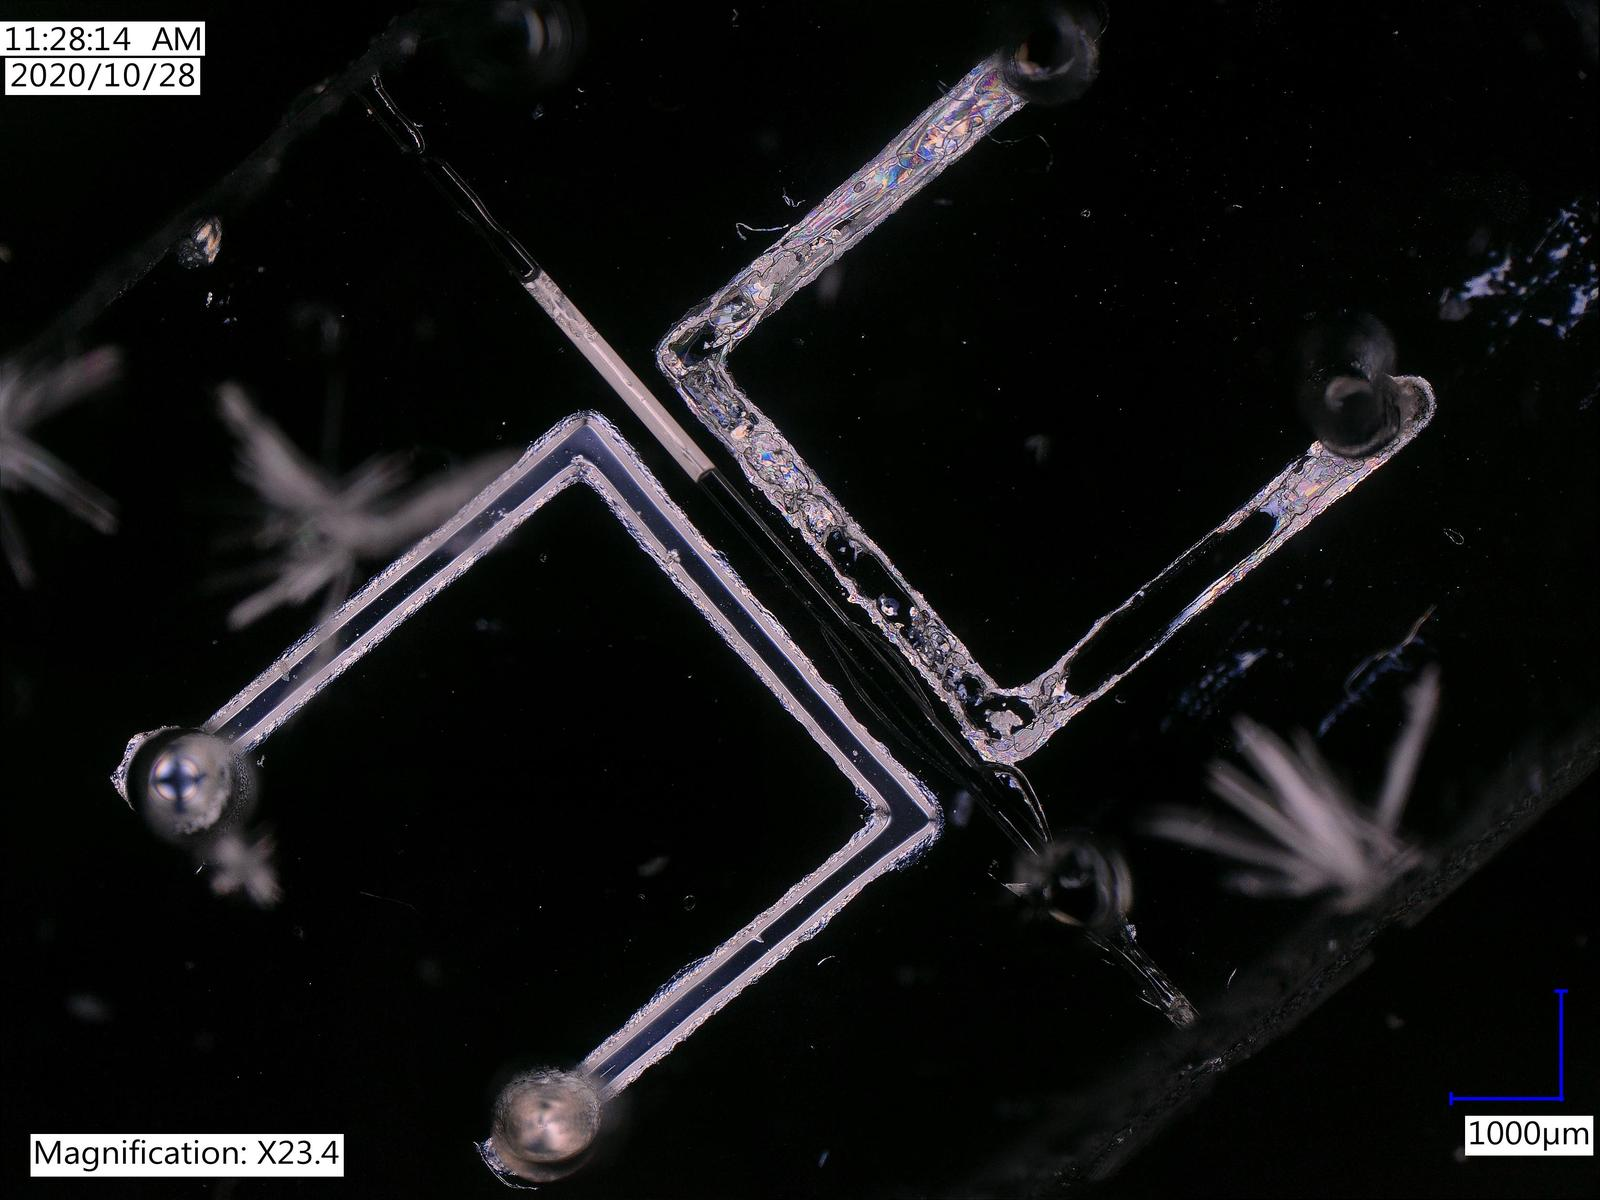sediment: (905, 613, 963, 677), (1036, 664, 1067, 717), (981, 708, 1022, 729)
